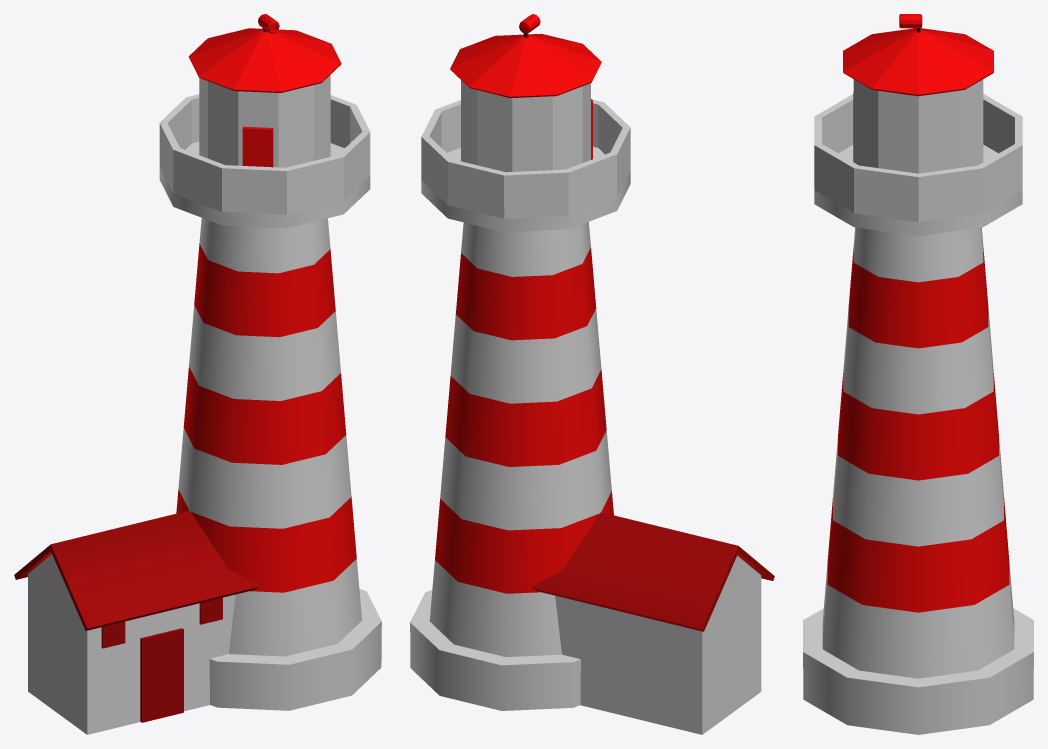
File: lightHouse.fbx
The picture shows the model from 3 angles, left to right: view 1: azimuth 30°, elevation 25°; view 2: azimuth 150°, elevation 25°; view 3: azimuth 270°, elevation 25°; orthographic projection. The views are drawn at different scales.
Visible parts, largest first — view 1: Object.005, Object.003, Object003.001, Object001.001, Object.006, Object.001; view 2: Object.005, Object.003, Object003.001, Object001.001; view 3: Object.005, Object001.001.
Part boxes in pixels (box(x1,y1,x2,y2)): Object.005: box(159, 75, 381, 710); Object.003: box(28, 554, 235, 734); Object003.001: box(14, 510, 259, 630); Object001.001: box(188, 28, 341, 92); Object.006: box(140, 628, 183, 722); Object.001: box(242, 126, 273, 167); Object.005: box(410, 80, 630, 710); Object.003: box(555, 555, 761, 734); Object003.001: box(531, 512, 774, 631); Object001.001: box(450, 33, 601, 97); Object.005: box(803, 79, 1033, 734); Object001.001: box(843, 28, 993, 96).
Bounding box in the file's own units: 2320 × 4544 × 1422.
